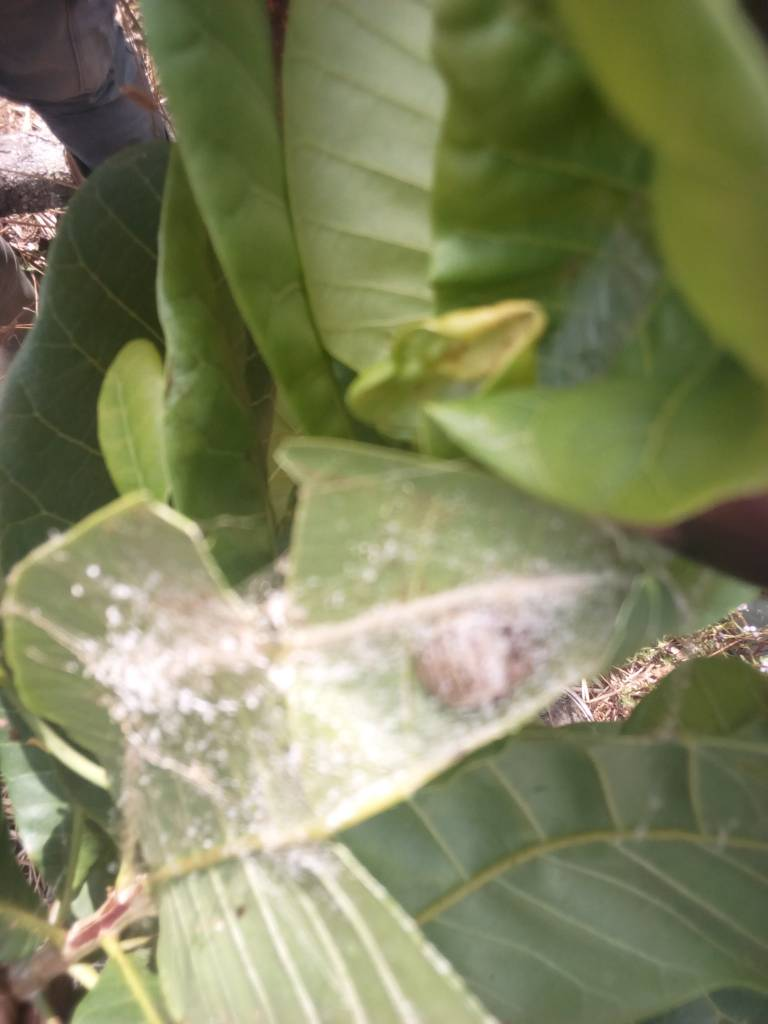Oidium: (1, 417, 765, 888)
